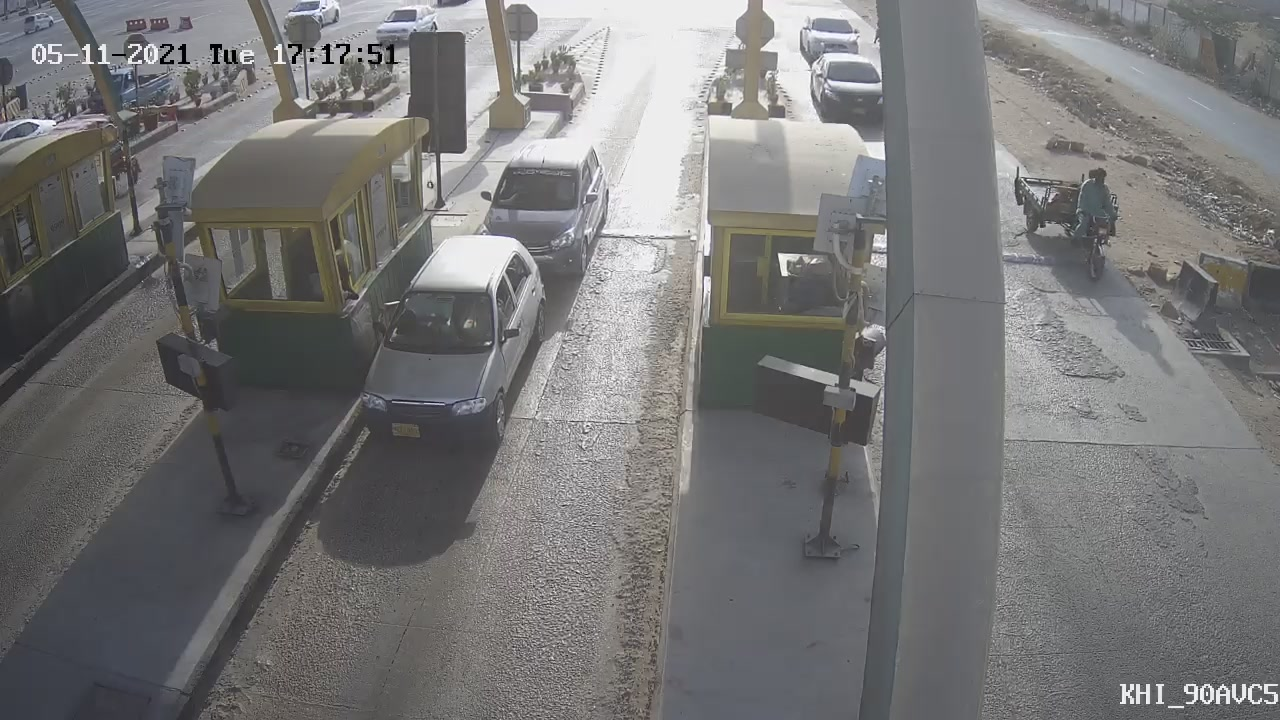F1: (338, 222, 565, 466), (464, 124, 622, 298)
